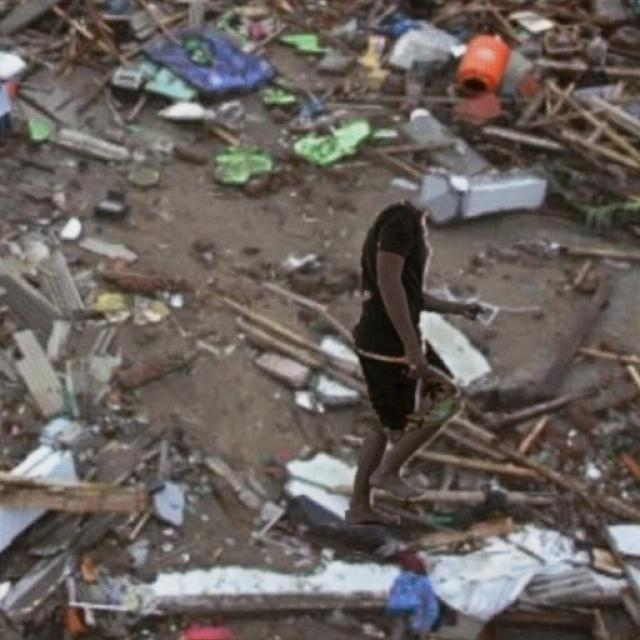Person in Rubble: (345, 200, 484, 524)
